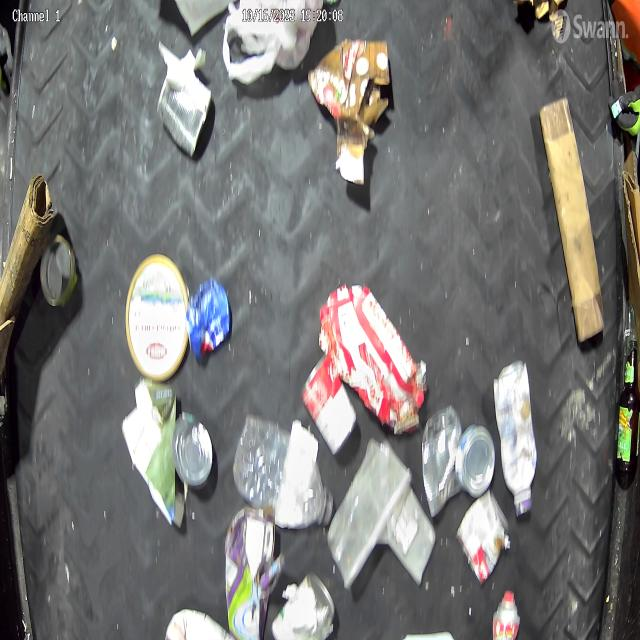can: (156, 56, 213, 160), (302, 355, 358, 457), (455, 488, 509, 590), (422, 402, 466, 521), (270, 569, 336, 640), (184, 274, 232, 363), (171, 410, 214, 490), (454, 421, 495, 500), (39, 232, 79, 310)
plastic_bottle: (232, 413, 335, 531)
